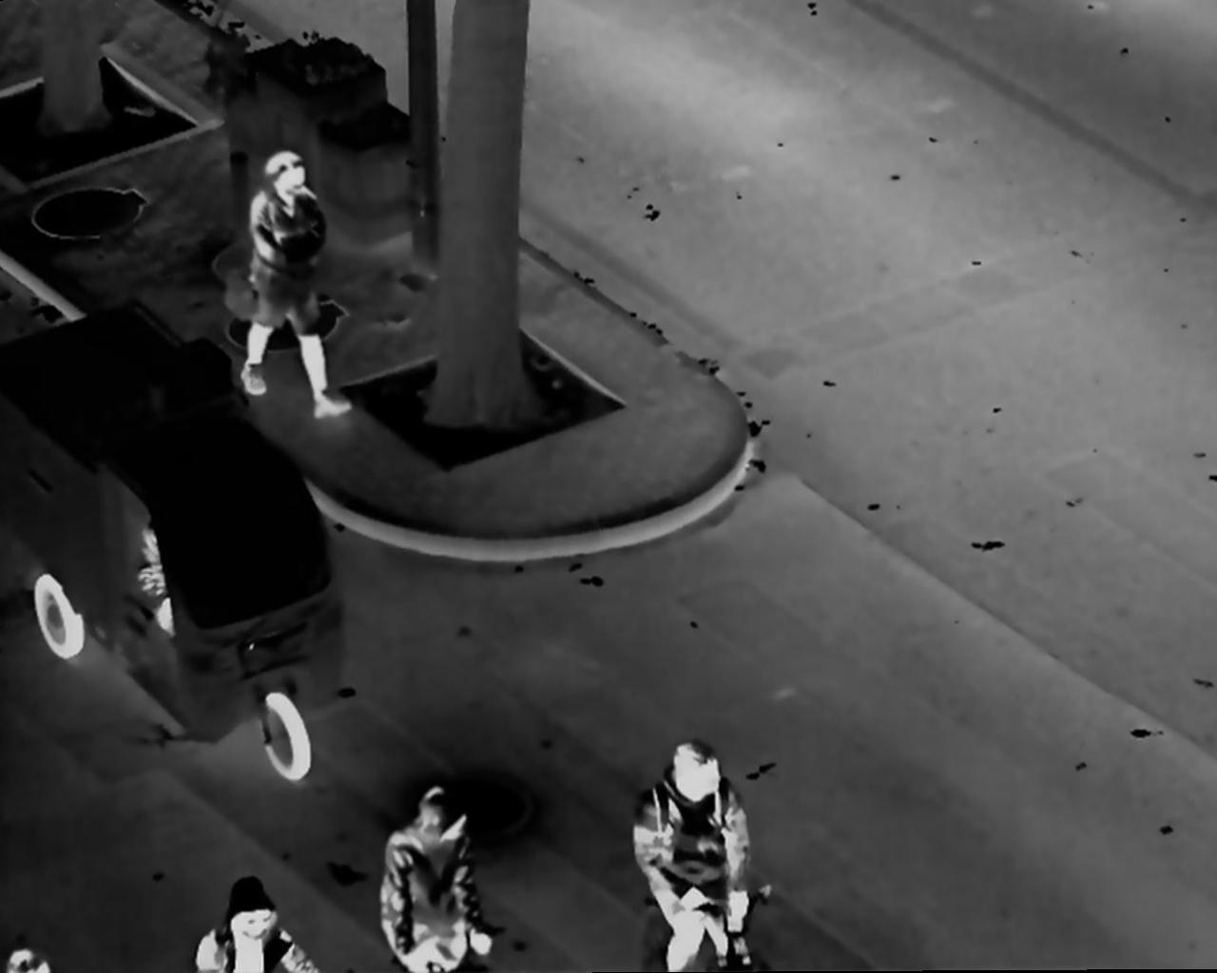person: (231, 146, 357, 426), (626, 735, 769, 968), (369, 776, 493, 973), (189, 877, 326, 973)
